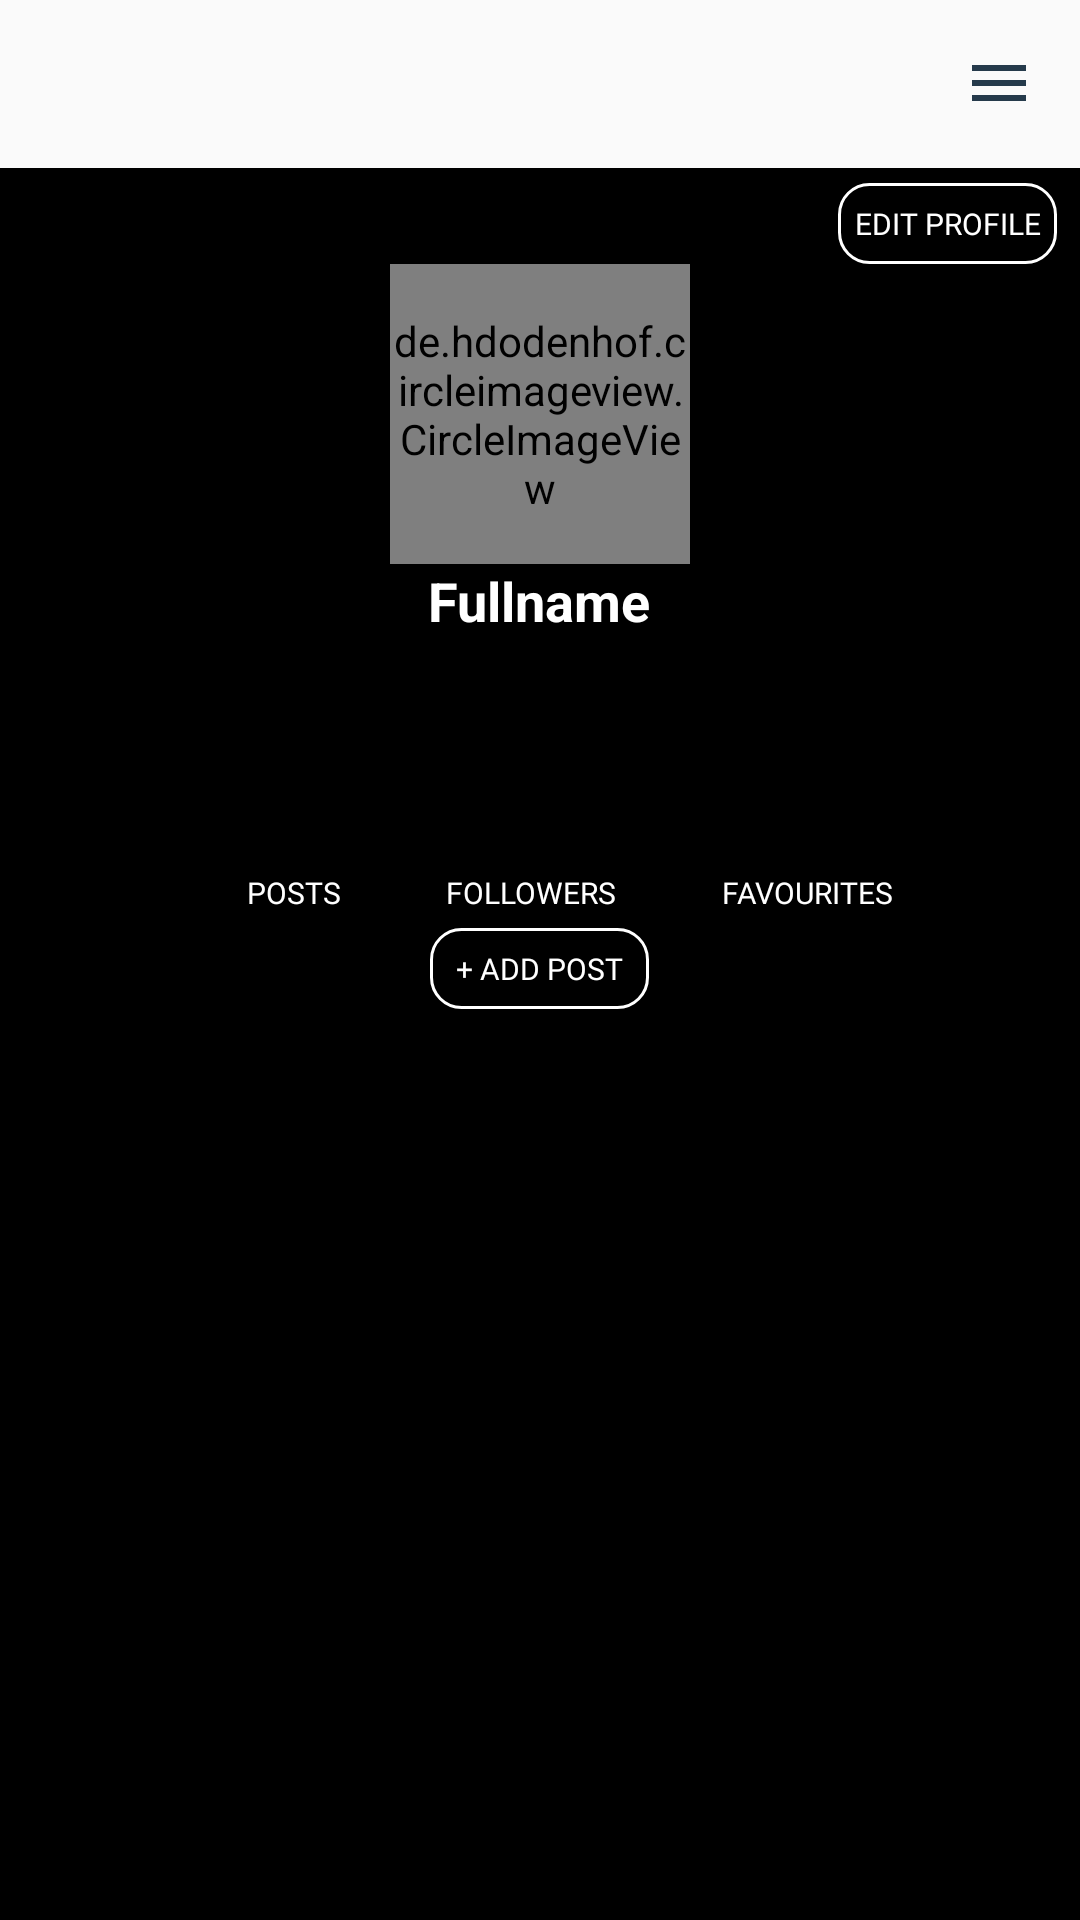

Named icons in this screenshot (1080 × 1920) and their bounding boxes, (x1, y1, x2, y2):
menu: (972, 65, 1026, 101)
